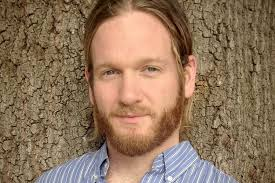white_male: (80, 35, 177, 155)
